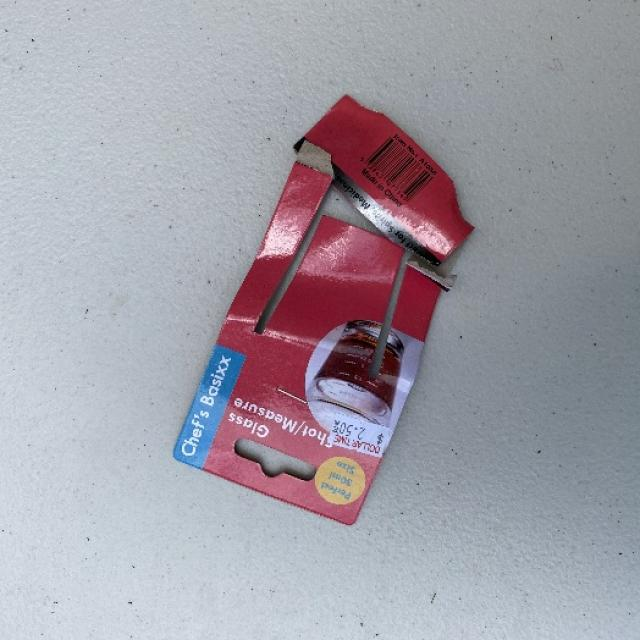kertas: (144, 81, 493, 534)
